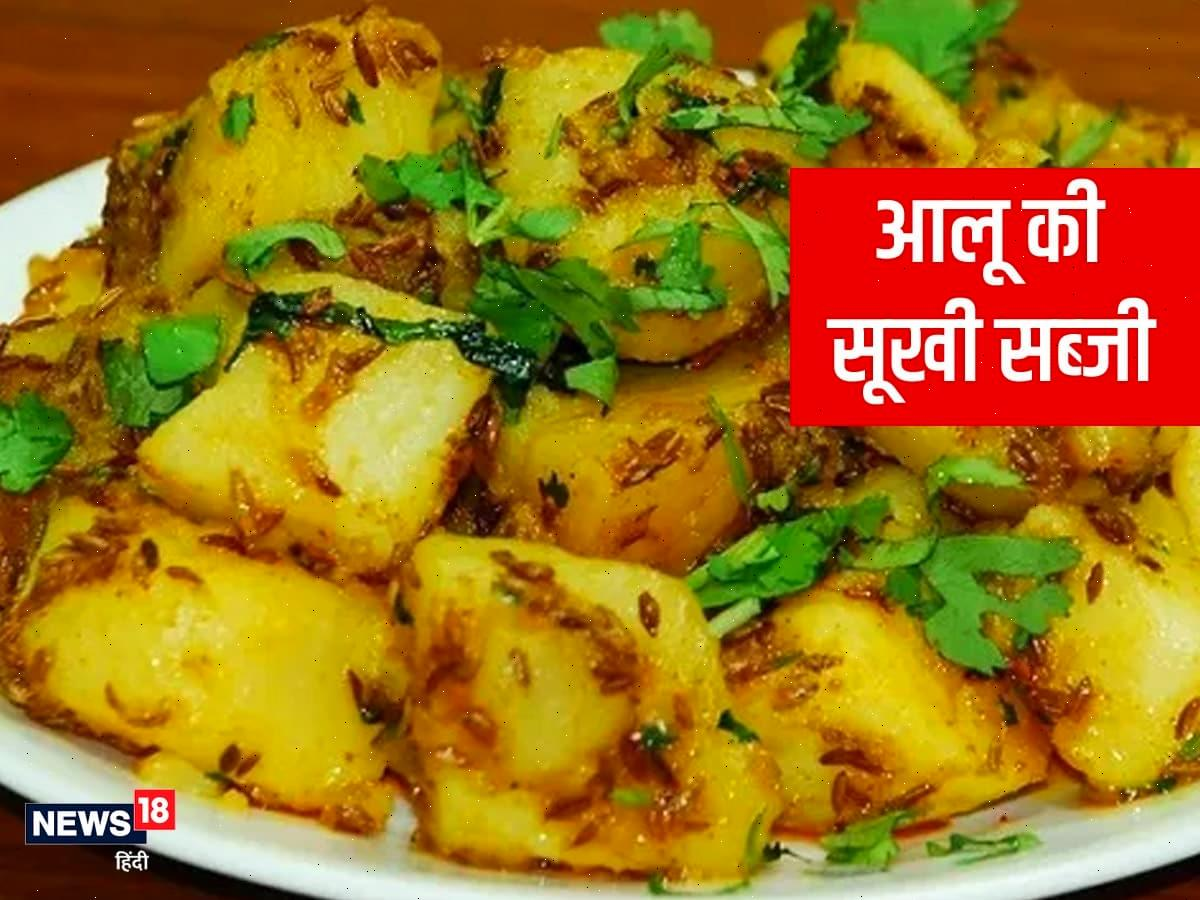aloo sabji: (78, 70, 1151, 900)
